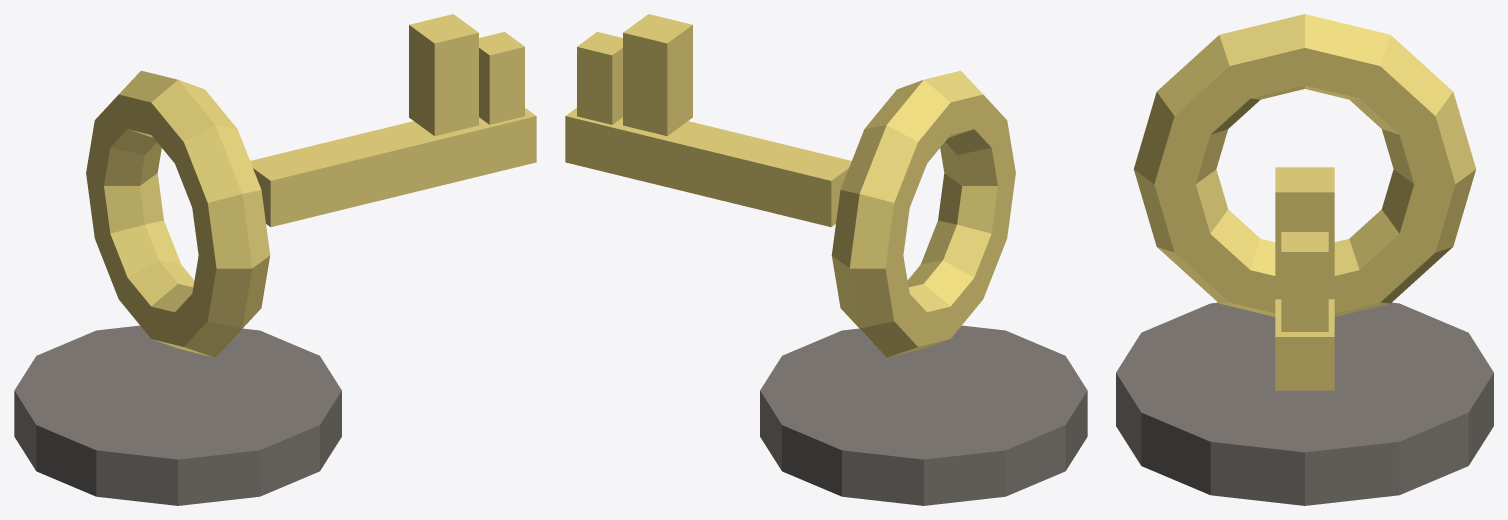
File: dungeon_key.glb
3 renders of one model, left to right at view 1: azimuth 30°, elevation 25°; view 2: azimuth 150°, elevation 25°; view 3: azimuth 270°, elevation 25°, orthographic. The views are drawn at different scales.
Visible parts, largest first — view 1: key_base; view 2: key_base; view 3: key_base.
Part boxes in pixels (box(x1,y1,x2,y2)): key_base: box(14, 14, 536, 505); key_base: box(565, 14, 1087, 505); key_base: box(1116, 14, 1493, 505).
Size of the model in its own units: 0.55 by 0.385 by 0.32.
